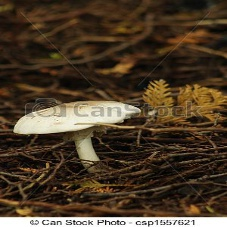mushroom: (11, 99, 141, 177)
